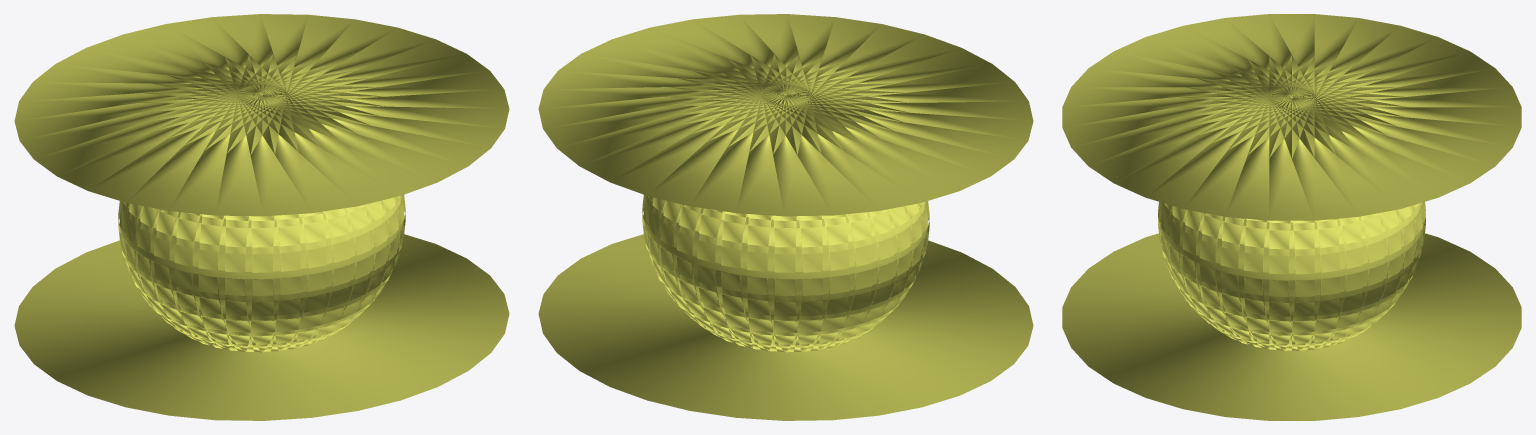
The model's file is obsttask201.fbx.
The picture shows the model from 3 angles, left to right: view 1: azimuth 30°, elevation 25°; view 2: azimuth 150°, elevation 25°; view 3: azimuth 270°, elevation 25°; orthographic projection. The views are drawn at different scales.
Visible parts, largest first — view 1: Sphere; view 2: Sphere; view 3: Sphere.
Boxes of the visible parts, x1,y1,x2,y2 form: Sphere: (14,14,509,420); Sphere: (538,14,1033,420); Sphere: (1062,14,1521,420).
Size of the model in its own units: 619 by 336 by 582.
